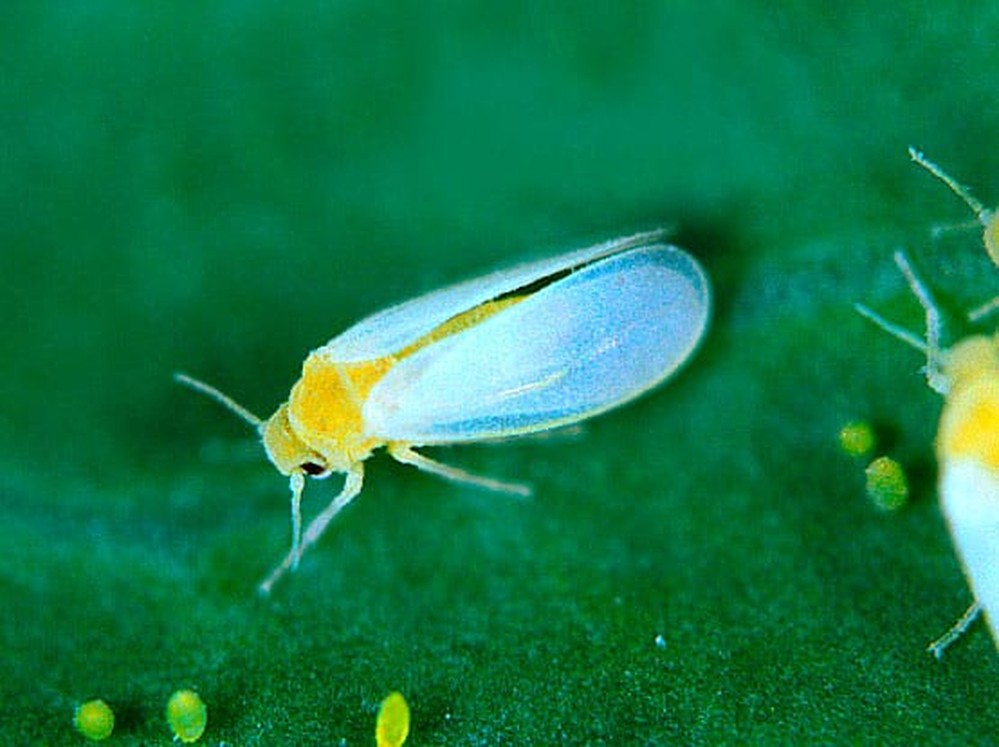Mosca Blanca: (165, 210, 763, 603)
